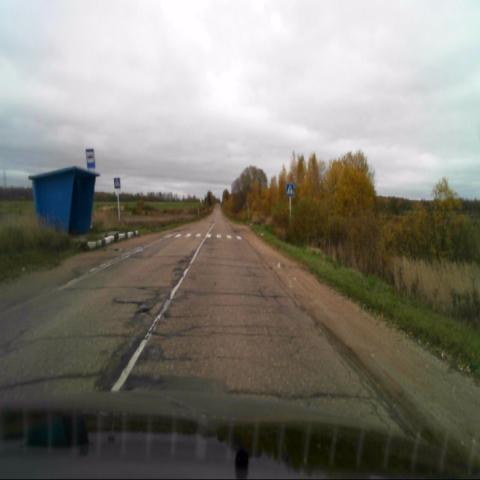5_16: (85, 148, 96, 171)
5_19_1: (286, 183, 294, 197), (114, 177, 120, 190)
